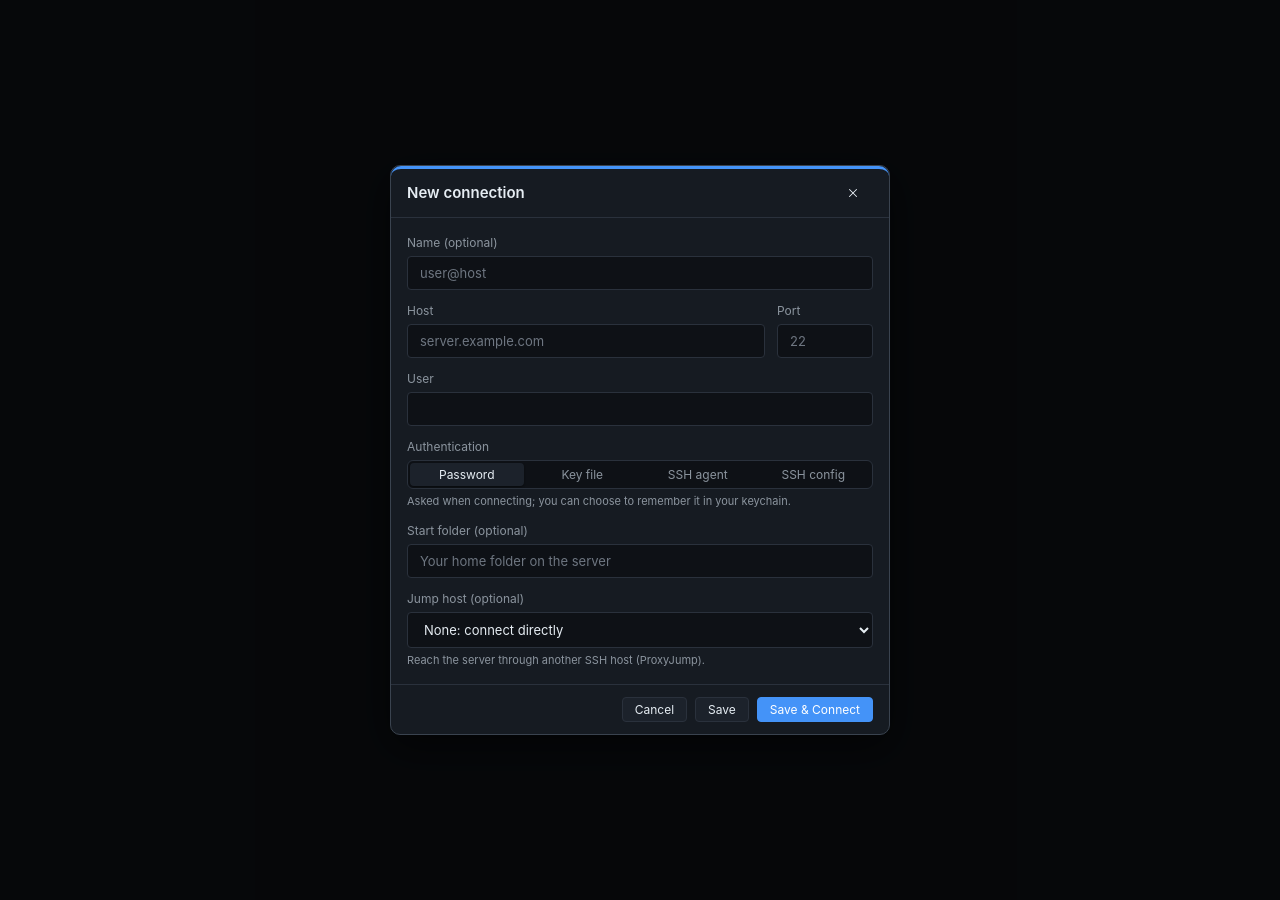
Test case: ConnectionForm › shows the problems inline after trying to save
Expected: the dialog "New connection" is shown, left=390, top=165, right=890, bottom=735
Expected: the text "Enter a host." is not shown
Type "70000" into the field labelled "Port".
click(825, 341); type("70000")  # box left=777, top=324, right=873, bottom=358
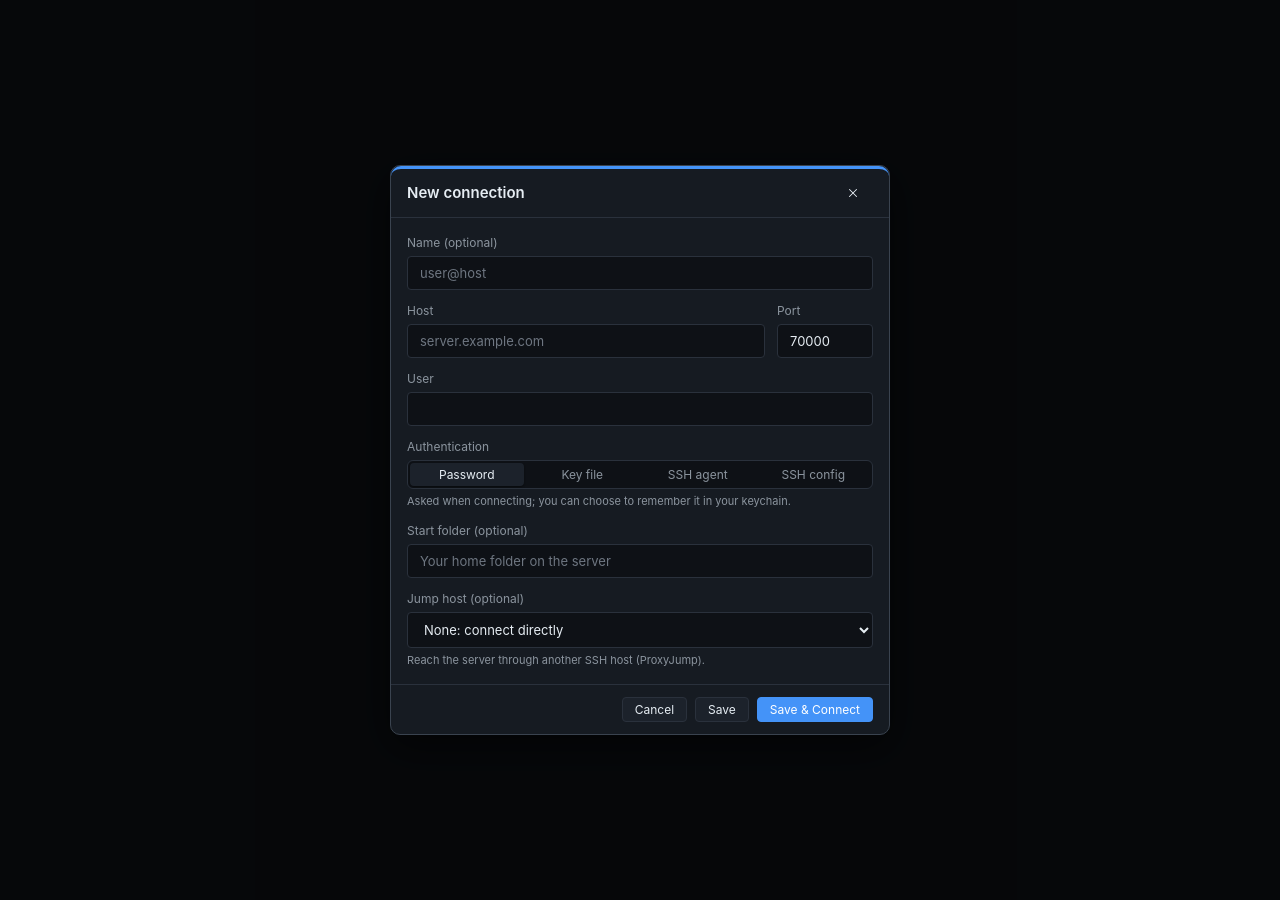
Click the button "Save".
click(722, 710)  # box left=695, top=697, right=749, bottom=722
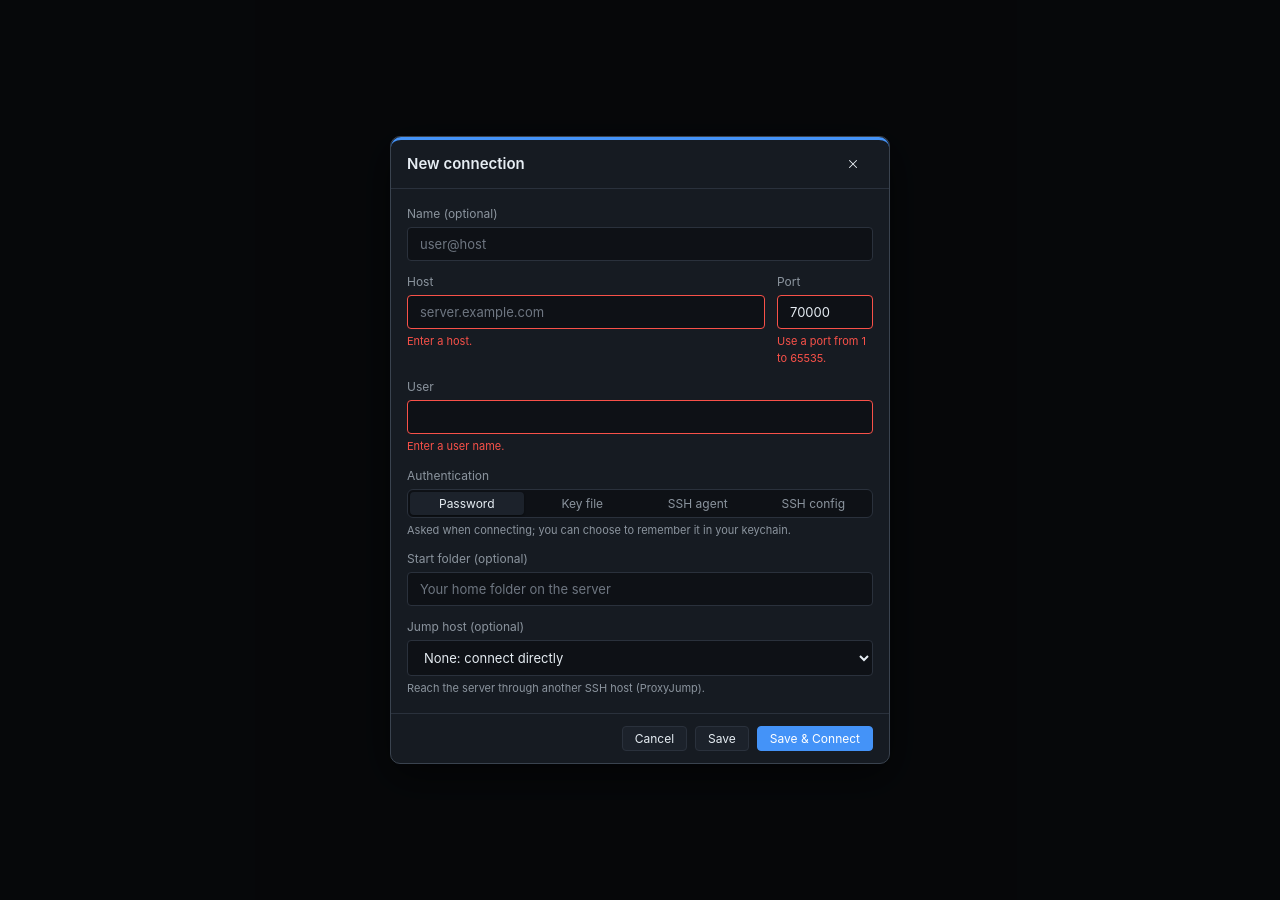
Now the text "Enter a host." is shown, box left=407, top=334, right=472, bottom=348
Now the text "Enter a user name." is shown, box left=407, top=439, right=504, bottom=453
Now the text "Use a port from 1 to 65535." is shown, box left=777, top=333, right=873, bottom=366
Type "alpha.example.test" into the field labelled "Host".
click(586, 312); type("alpha.example.test")  # box left=407, top=295, right=765, bottom=329
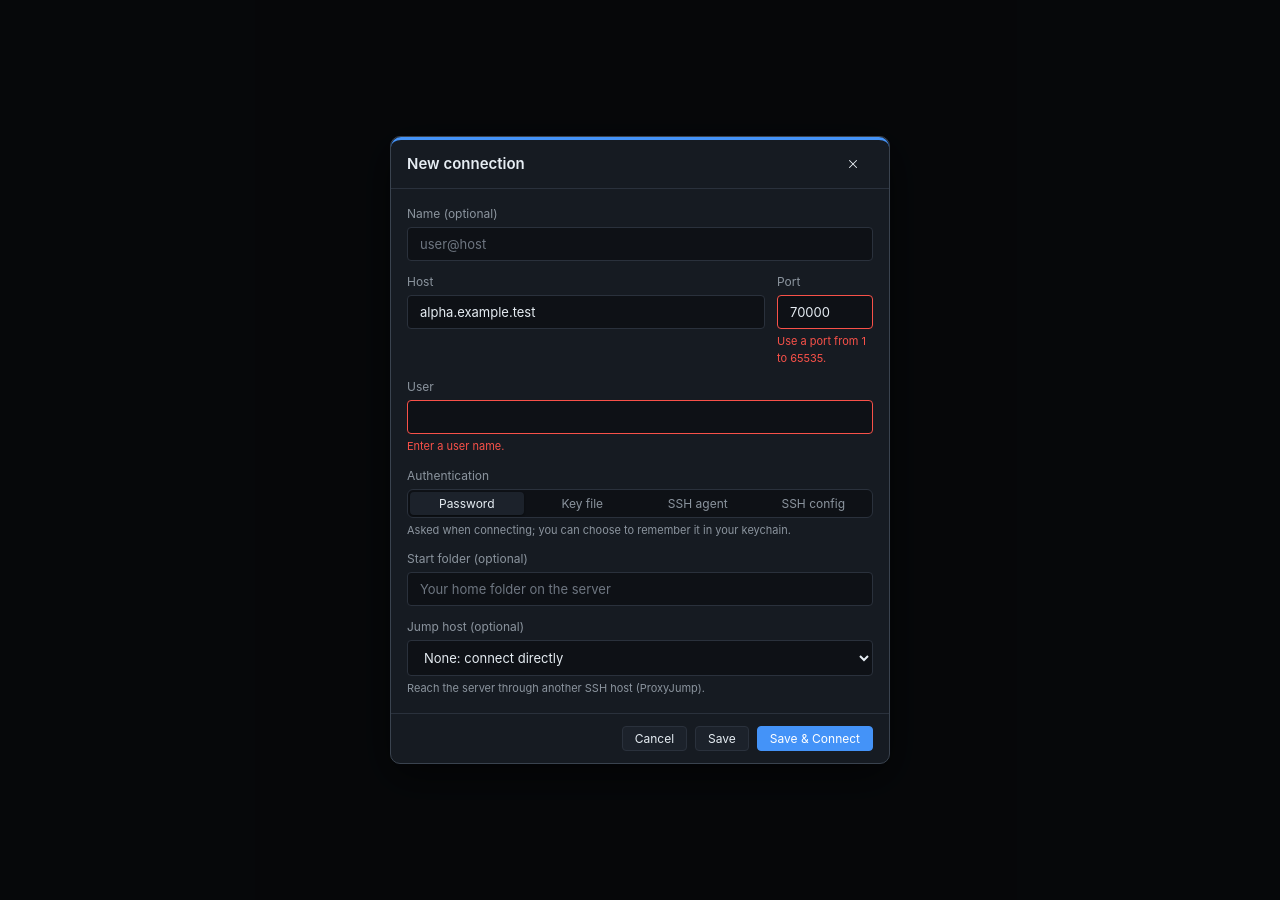
Now the text "Enter a host." is gone
